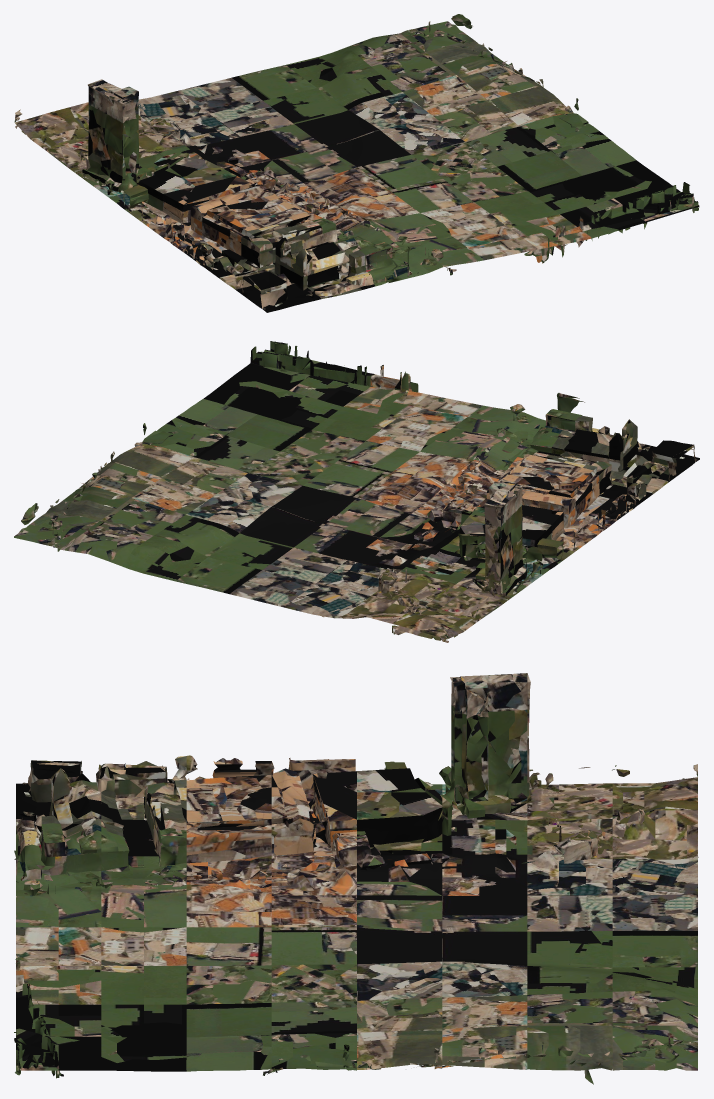
The model's file is santo_antonio_sudoeste.glb.
3 views of the same model, one above another, from view 1: azimuth 30°, elevation 25°; view 2: azimuth 150°, elevation 25°; view 3: azimuth 270°, elevation 25° (orthographic). The views are drawn at different scales.
Visible parts, largest first — view 1: santo_antonio_sudoeste; view 2: santo_antonio_sudoeste; view 3: santo_antonio_sudoeste.
Boxes of the visible parts, box(x1,y1,x2,y2) form: santo_antonio_sudoeste: box(14, 14, 699, 312); santo_antonio_sudoeste: box(14, 341, 699, 642); santo_antonio_sudoeste: box(14, 673, 698, 1084).
Size of the model in its own units: 307 by 74.26 by 309.
Materials: 1 (1 with a texture image).
